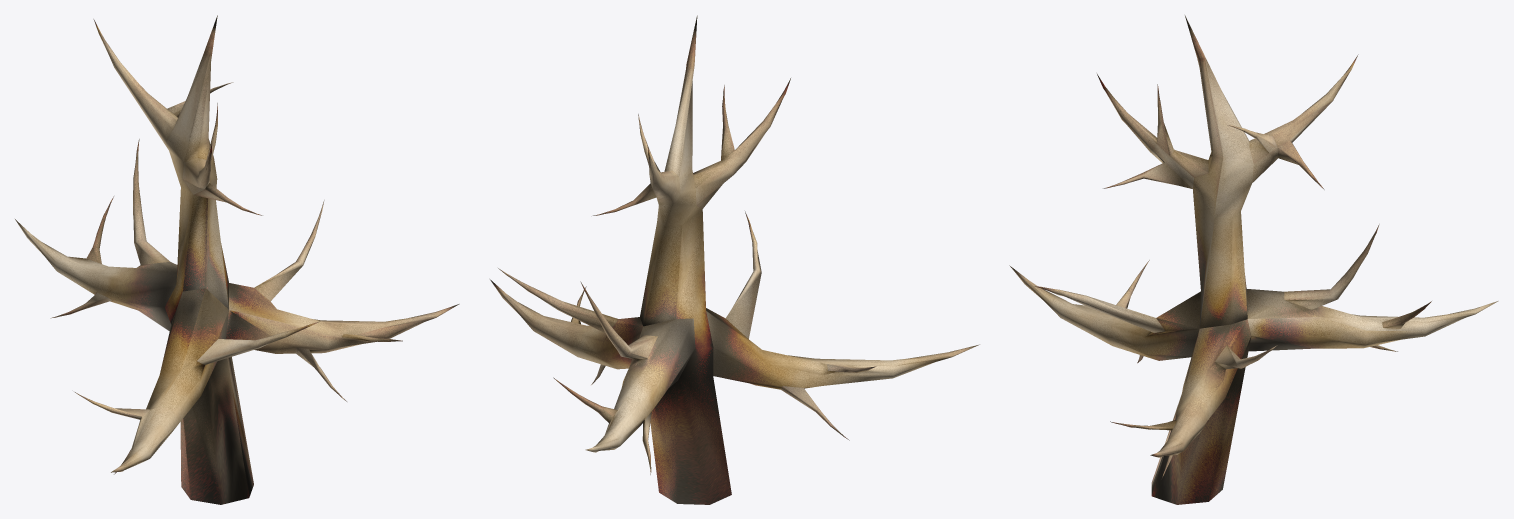
Rendered from DeadTree.glb.
3 renders of one model, left to right at view 1: azimuth 30°, elevation 25°; view 2: azimuth 150°, elevation 25°; view 3: azimuth 270°, elevation 25°, orthographic.
Parts seen in each view (by area): view 1: Cylinder; view 2: Cylinder; view 3: Cylinder.
Boxes of the visible parts, <box> form: Cylinder: <box>15,15,459,504</box>; Cylinder: <box>490,15,979,504</box>; Cylinder: <box>1009,15,1498,504</box>.
Bounding box in the file's own units: 5.39 × 5.82 × 5.45.
Materials: 1 (1 with a texture image).
